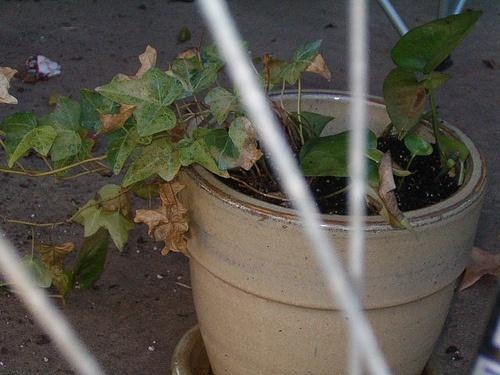pottedplant: (6, 8, 487, 373)
